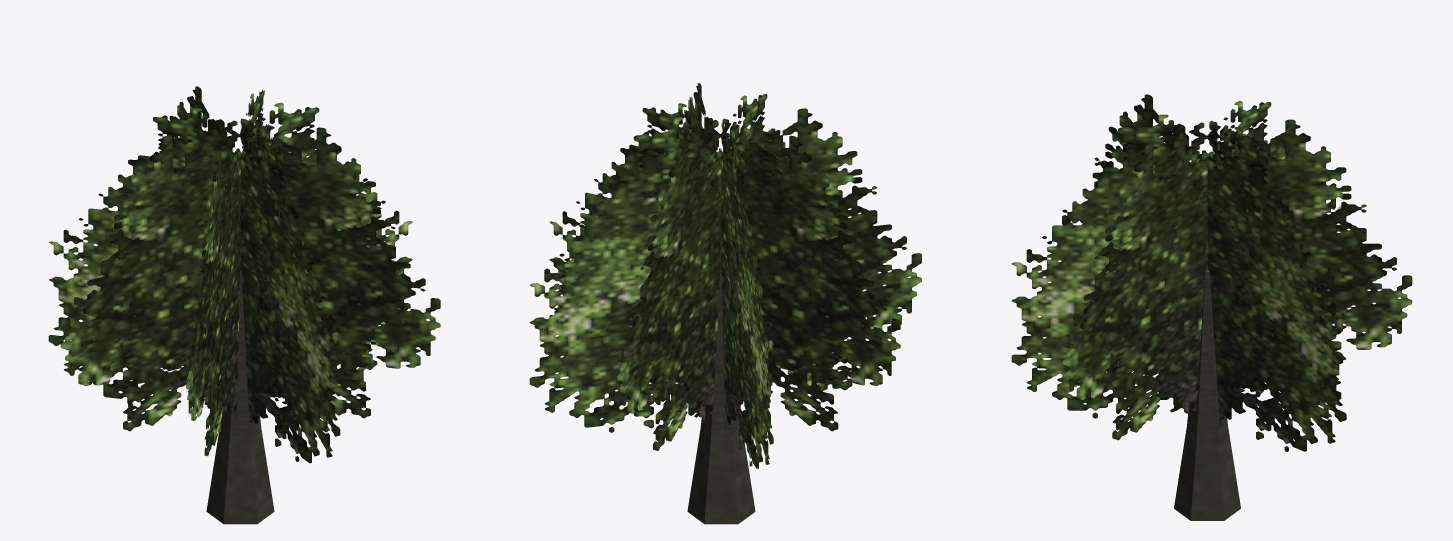
File: tree24.glb
3 renders of one model, left to right at view 1: azimuth 30°, elevation 25°; view 2: azimuth 150°, elevation 25°; view 3: azimuth 270°, elevation 25°, orthographic.
Parts seen in each view (by area): view 1: tree24; view 2: tree24; view 3: tree24.
Boxes of the visible parts, x1=… form: tree24: x1=48, y1=86, x2=440, y2=524; tree24: x1=529, y1=82, x2=921, y2=524; tree24: x1=1011, y1=94, x2=1412, y2=520.
Size of the model in its own units: 13.2 by 12.5 by 13.2.
Materials: 1 (1 with a texture image).
